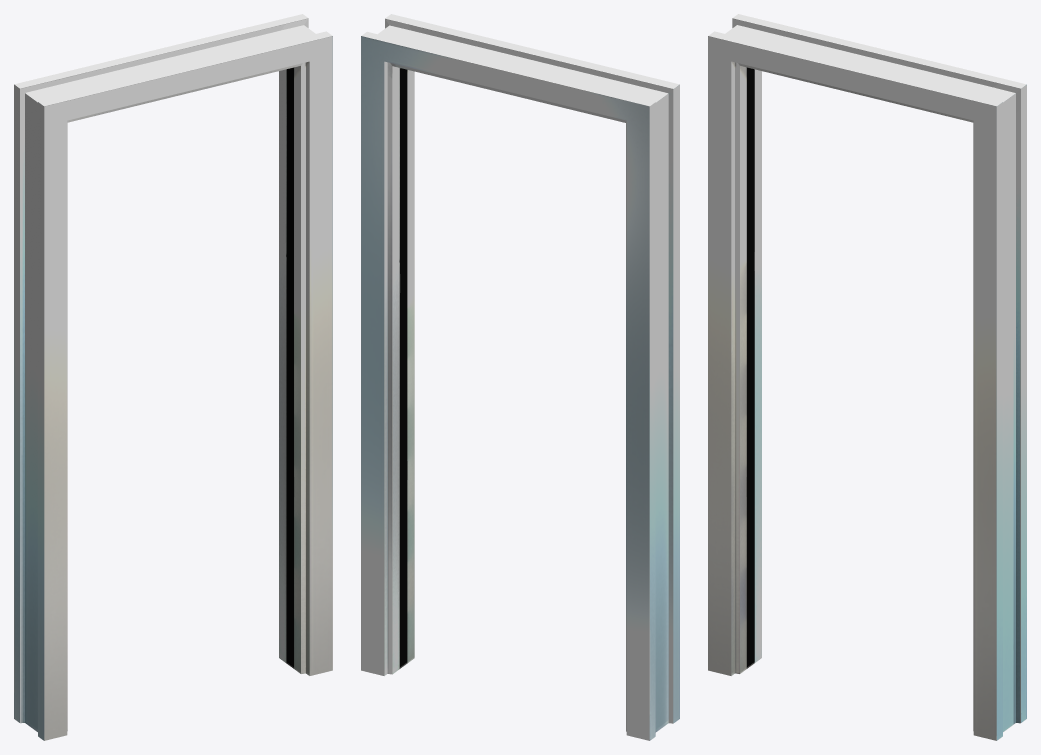
The model's file is Portal_frame.glb.
The picture shows the model from 3 angles, left to right: view 1: azimuth 30°, elevation 25°; view 2: azimuth 150°, elevation 25°; view 3: azimuth 330°, elevation 25°; orthographic projection.
Parts seen in each view (by area): view 1: frame; view 2: frame; view 3: frame.
Part boxes in pixels (x1,y1,x2,y2): frame: (14,14,332,740); frame: (361,14,679,740); frame: (708,14,1026,740).
Size of the model in its own units: 0.983 by 2.07 by 0.1773.
Materials: 1 (1 with a texture image).
